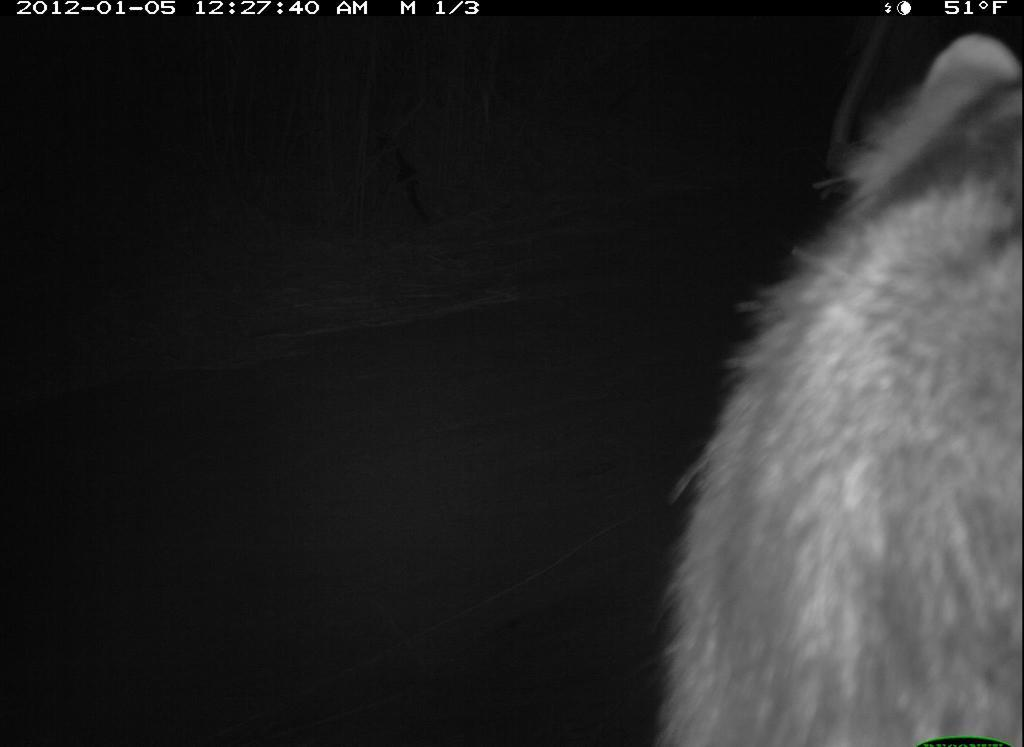raccoon: (647, 33, 1022, 747)
